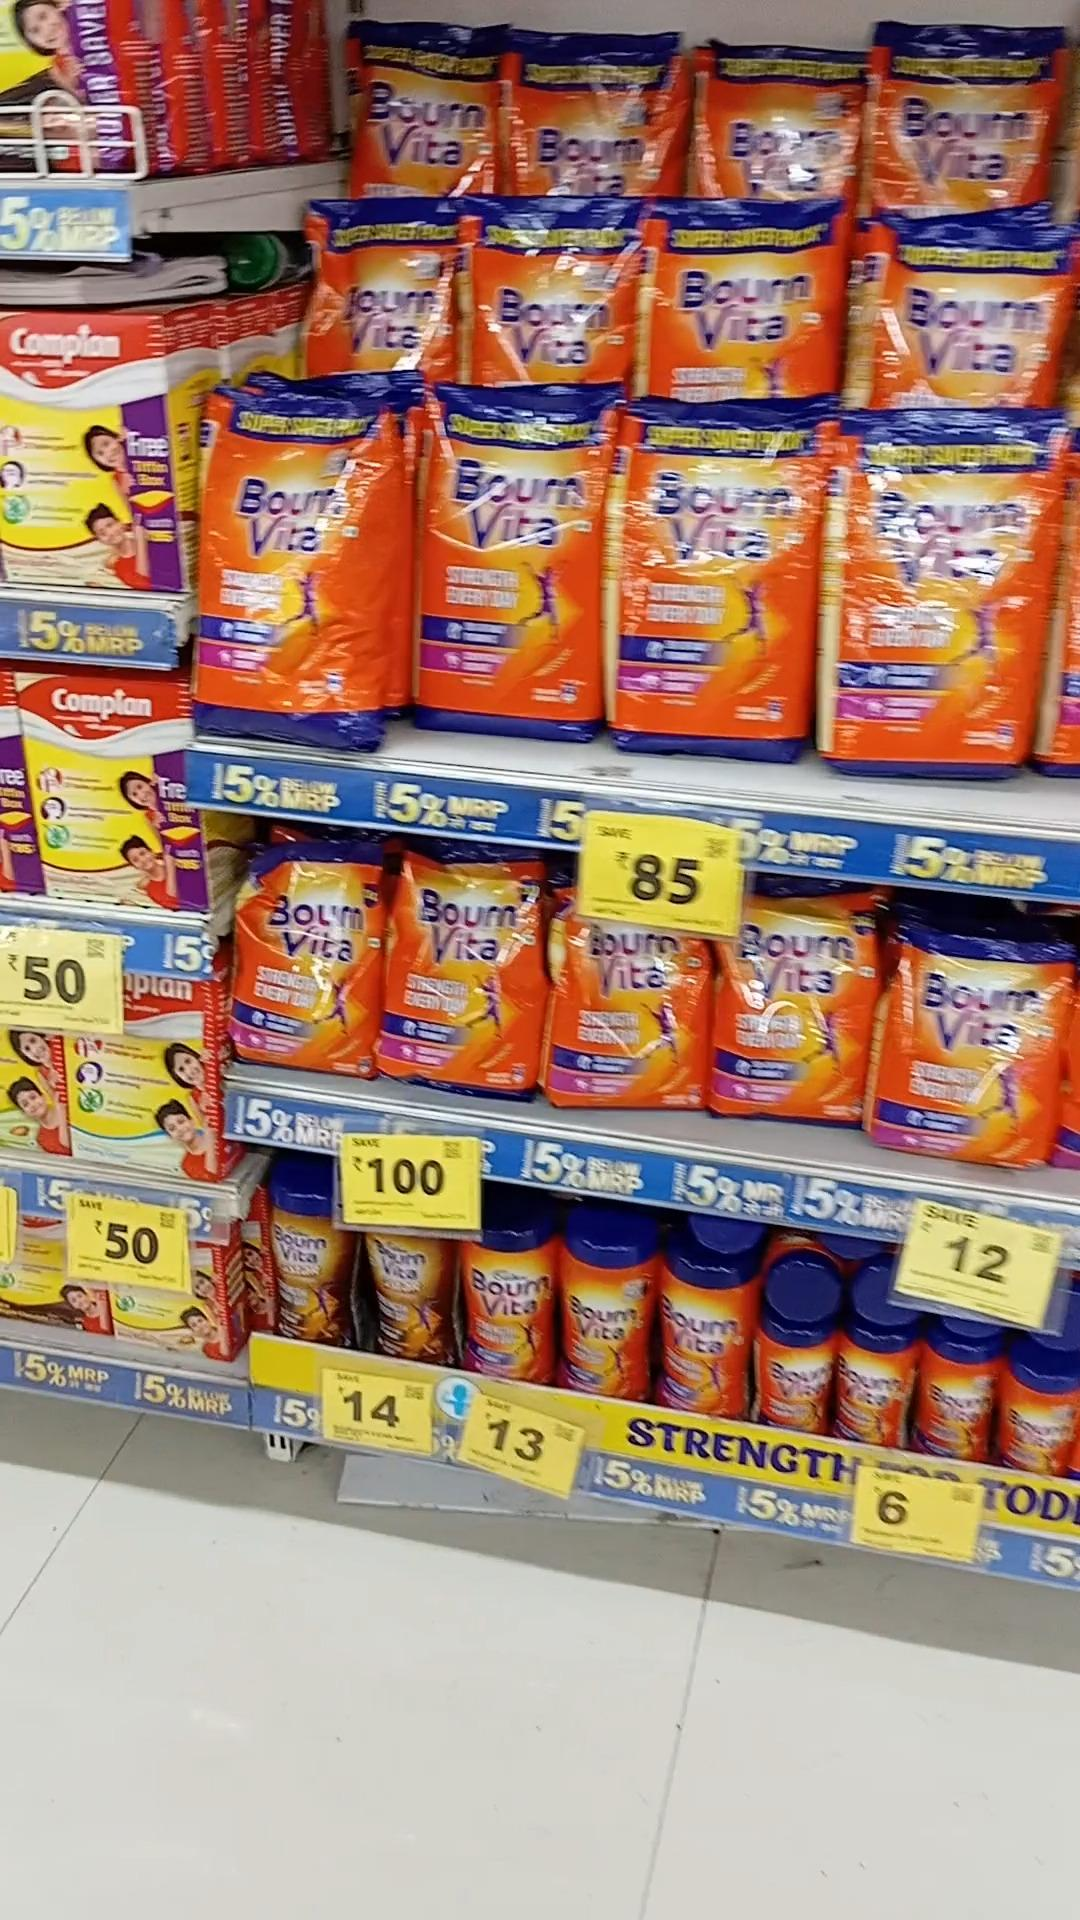BOURN_VITA_200_G_JAR: (994, 1354, 1075, 1478), (914, 1332, 988, 1461), (760, 1319, 835, 1435), (837, 1321, 906, 1448)
BOURN_VITA_500_G_JAR: (566, 1232, 658, 1395), (468, 1216, 555, 1386), (663, 1258, 748, 1419)
BOURN_VITA_750_G_POUCH: (891, 928, 1063, 1170), (386, 848, 541, 1100), (720, 894, 862, 1121), (554, 918, 705, 1114), (247, 853, 377, 1062)
BOURN_VITA_FIVE_STAR_MAGIC_500_G_JAR: (276, 1182, 355, 1346), (364, 1228, 450, 1370)
COMPLAN_KESAR_BADAM_500_GMS_PACK: (0, 310, 164, 580), (18, 674, 191, 907)
